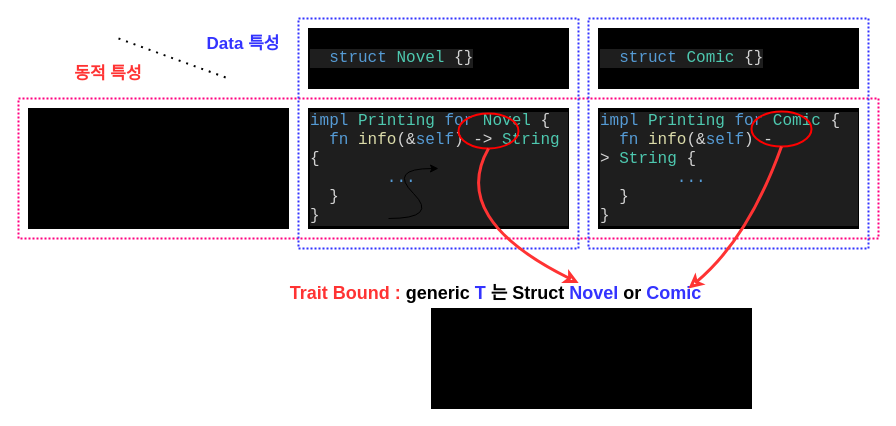
This 896x426 diagram has some shape labels left out. The box of each missing label's shape, as (x1, y1, x2, y2) in pixels:
fn notify < T : Printing > ( item : T ) { ... }: (430, 308, 752, 408)
trait Printing { fn info (& self ) -> String ; }: (28, 108, 288, 228)
